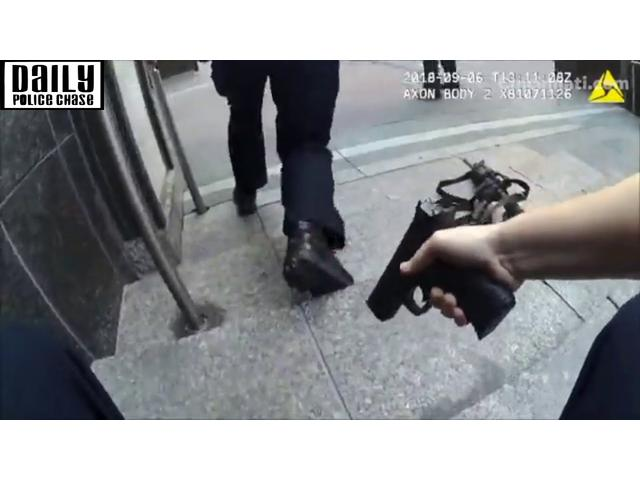pistol: (363, 196, 520, 345)
